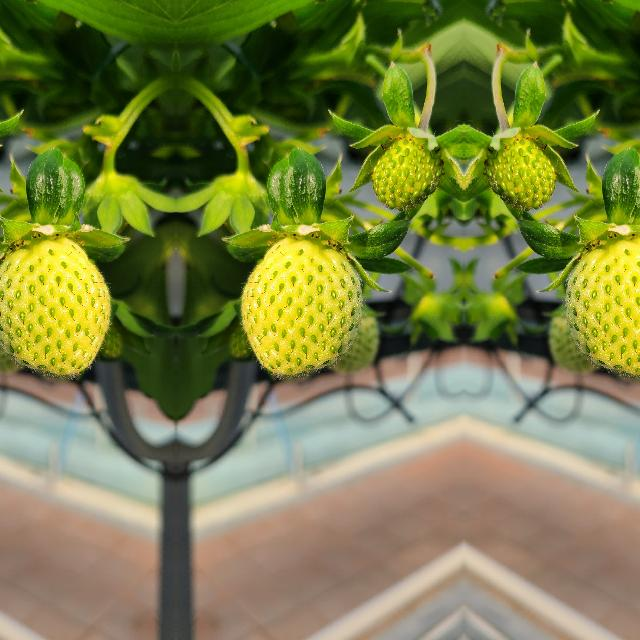Health_25: (240, 238, 360, 376), (0, 238, 110, 375), (565, 238, 640, 375), (366, 128, 444, 212), (482, 128, 560, 212)
